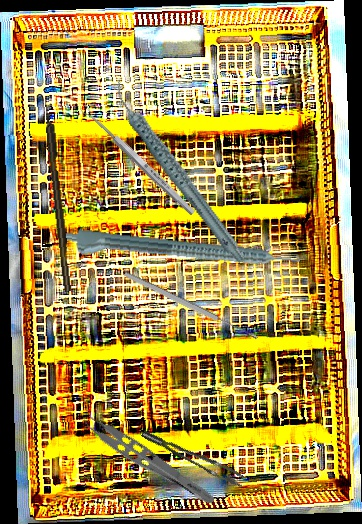Handpiece: (111, 60, 248, 283), (62, 227, 301, 280)
Hook Surgical: (42, 98, 73, 292)
Surgical Spoon: (79, 102, 197, 218), (122, 269, 260, 343)
Tissue Forceps: (75, 404, 223, 509), (141, 417, 247, 497)
